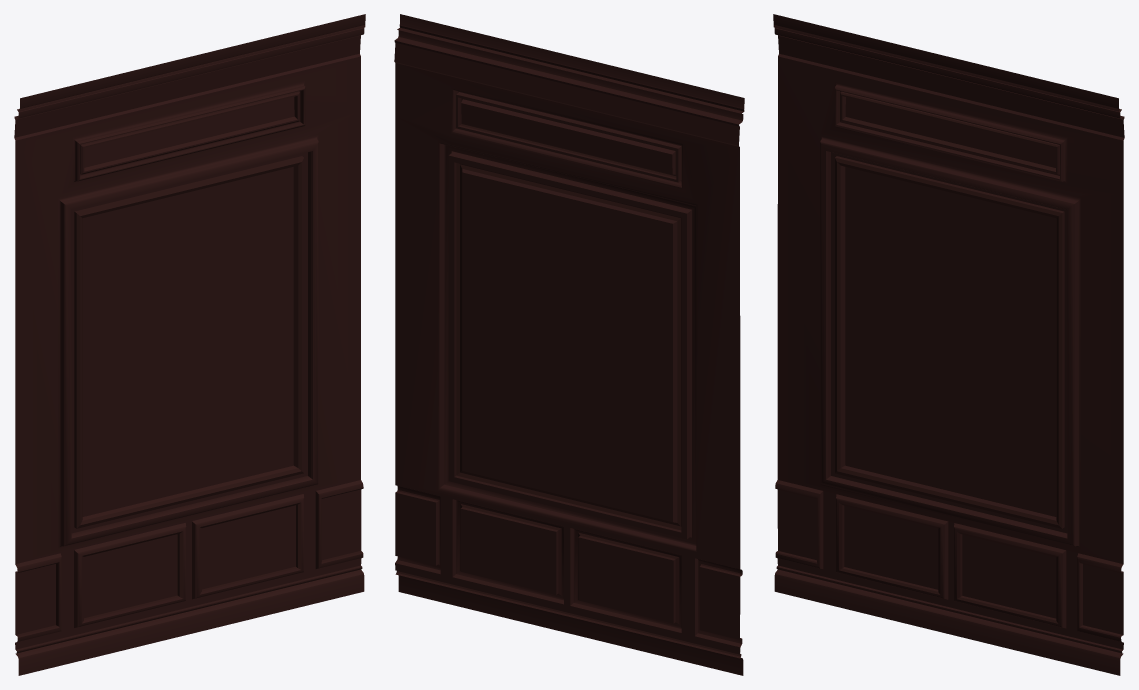
File: wall_big.fbx
3 views of the same model, side by side, from view 1: azimuth 30°, elevation 25°; view 2: azimuth 150°, elevation 25°; view 3: azimuth 330°, elevation 25° (orthographic).
Visible parts, largest first — view 1: Plane.015; view 2: Plane.015; view 3: Plane.015.
Part boxes in pixels (bbox=[...]): Plane.015: bbox=[14, 14, 365, 675]; Plane.015: bbox=[394, 14, 744, 675]; Plane.015: bbox=[773, 14, 1124, 675].
Bounding box in the file's own units: 201 × 320 × 5.73.
